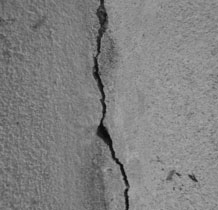crack: (90, 0, 131, 209)
